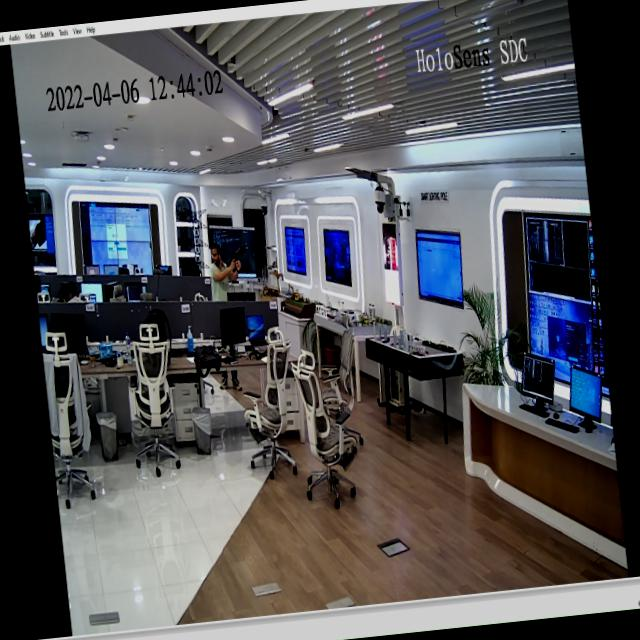long weapon: (220, 238, 253, 285)
